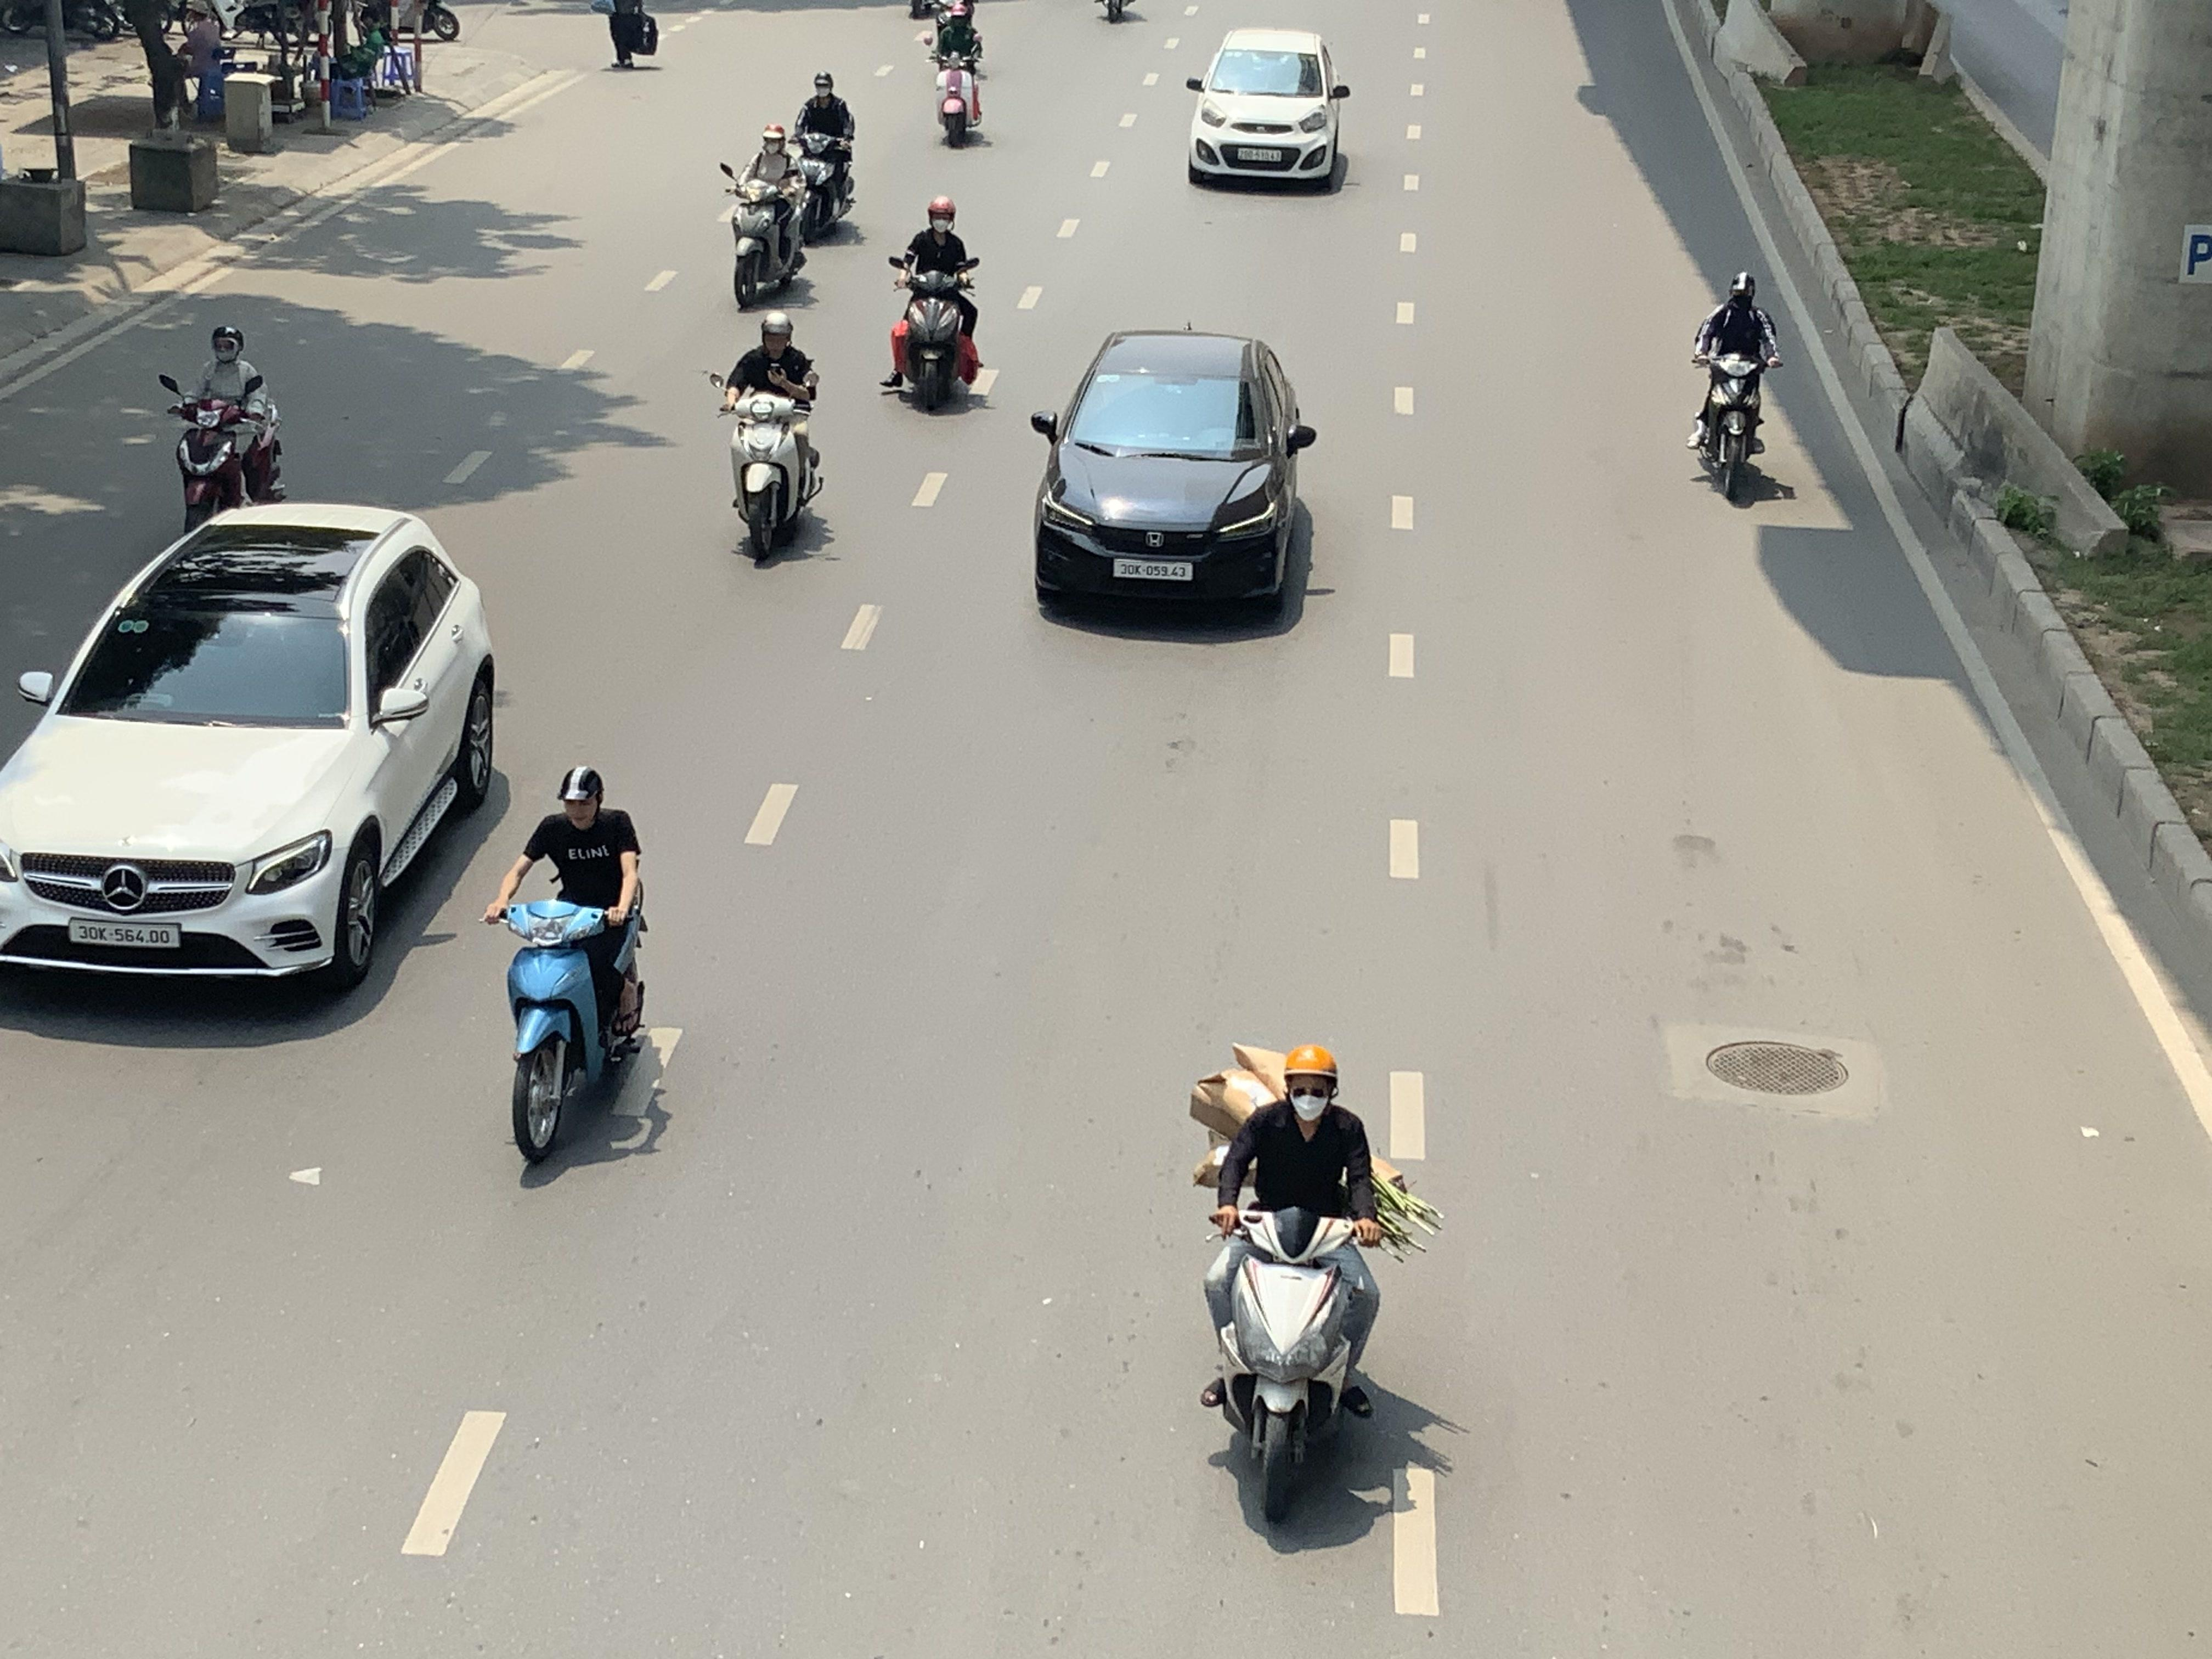BSD: (70, 920, 181, 948), (1113, 559, 1193, 580), (1237, 148, 1282, 162)
car: (0, 502, 502, 997), (1028, 329, 1318, 627), (1184, 28, 1352, 192)
motorbike: (1193, 1040, 1414, 1530), (488, 765, 651, 1166), (716, 310, 826, 568), (164, 326, 287, 528), (885, 197, 982, 415), (1689, 272, 1780, 504), (721, 122, 812, 312), (789, 70, 860, 242), (930, 5, 988, 148)
